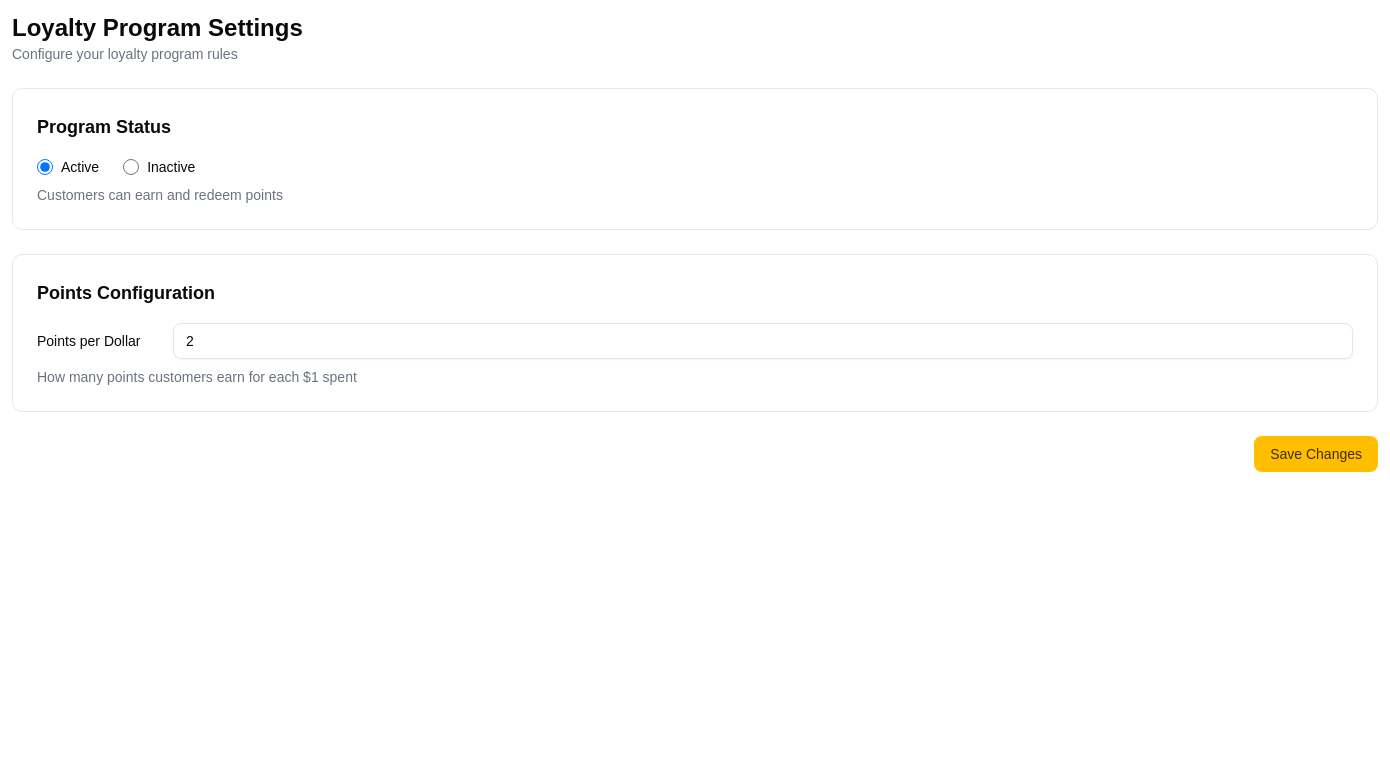
LoyaltyRulesClient › Form Submission › should show error message when save fails
Click the button "Save Changes". click: click(1316, 454)
box: [1254, 436, 1378, 472]
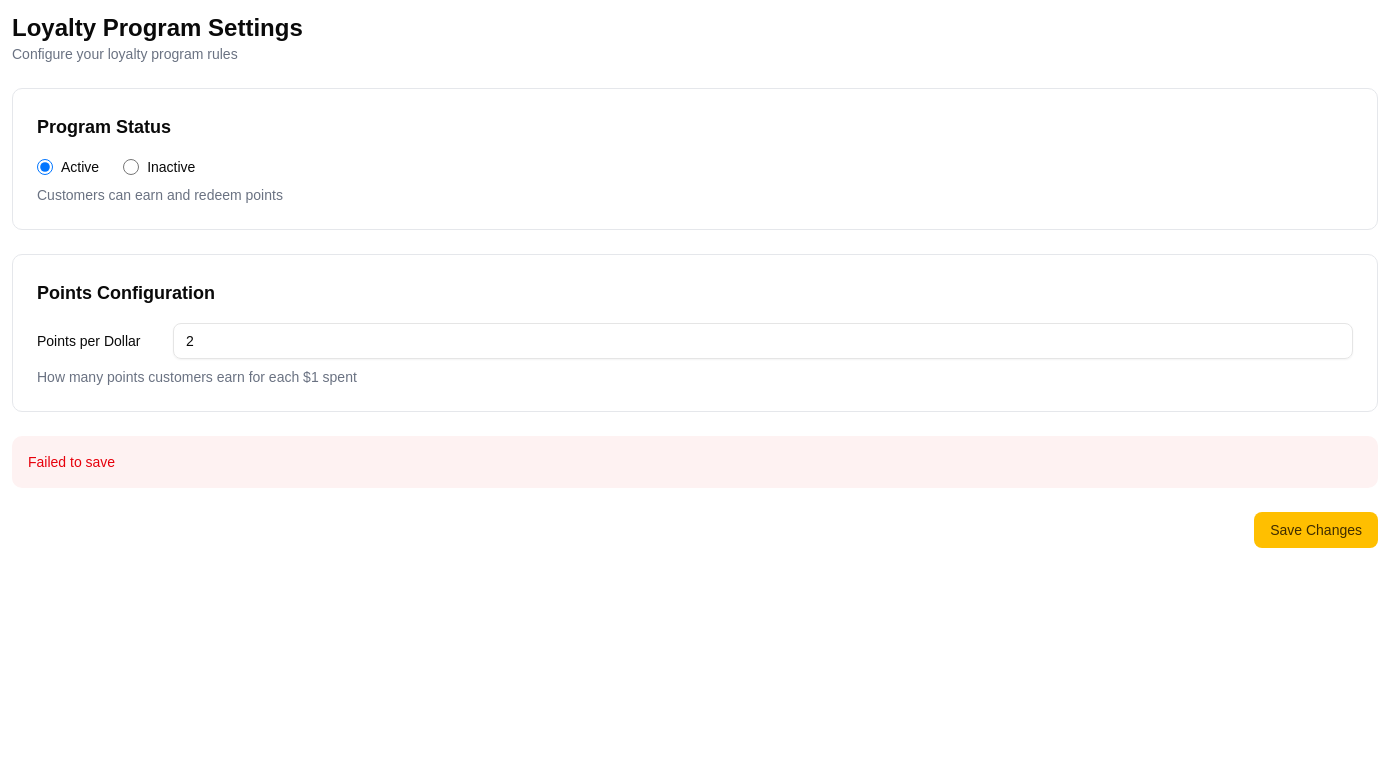
expect the text "Failed to save" is shown: met, box [12, 436, 1378, 488]
